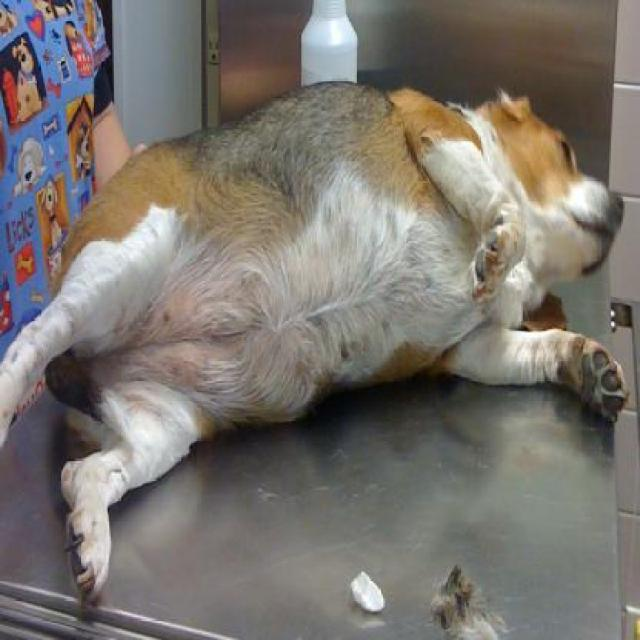Dog: (2, 80, 630, 609)
